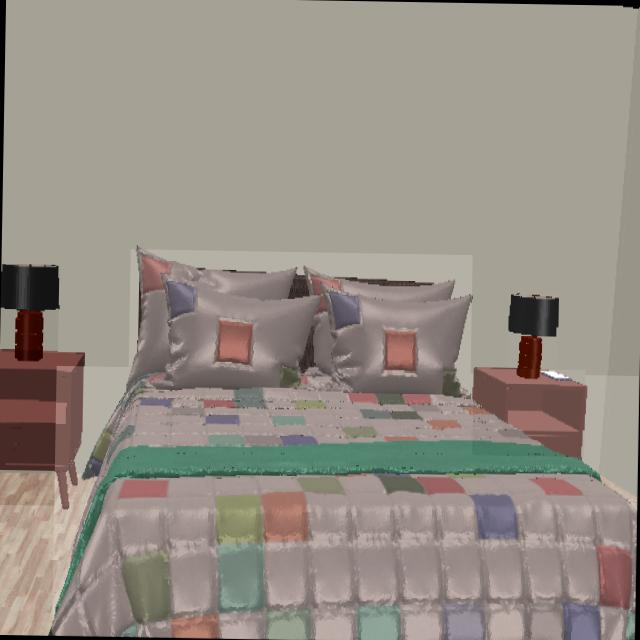bed: (52, 370, 636, 640)
lamp: (0, 264, 59, 360), (508, 294, 557, 378)
nighttable: (0, 351, 84, 506), (474, 369, 584, 457)
pillow: (128, 249, 470, 393)
